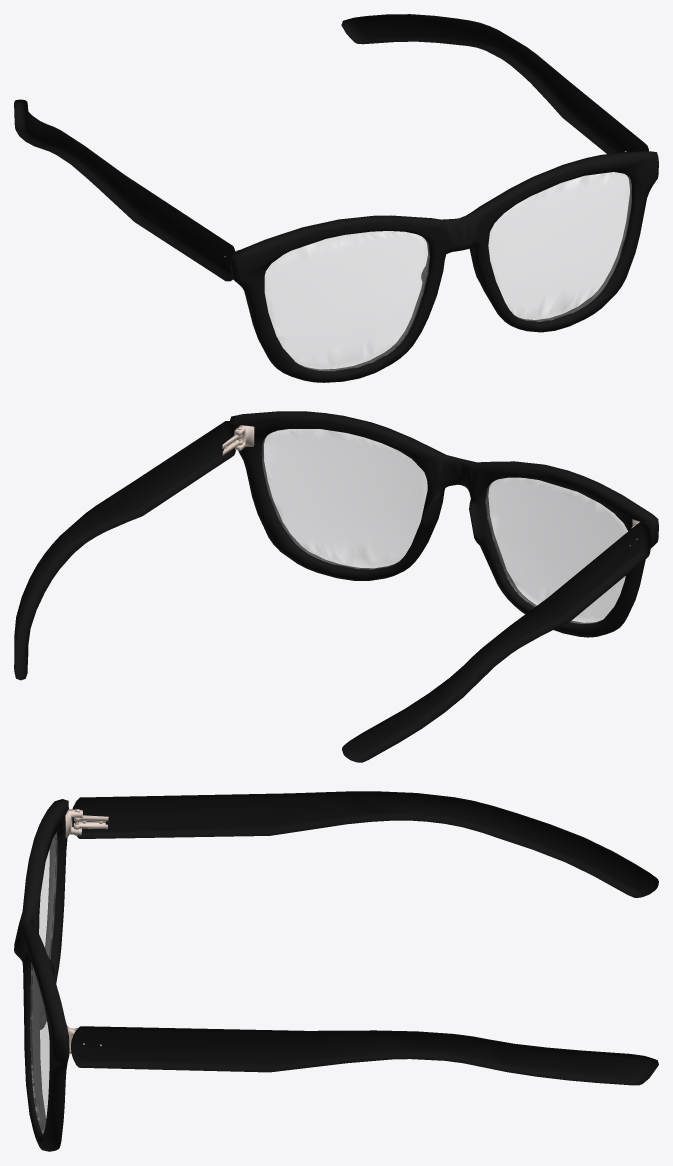
File: cat.glb
The picture shows the model from 3 angles, top to bottom: view 1: azimuth 30°, elevation 25°; view 2: azimuth 150°, elevation 25°; view 3: azimuth 270°, elevation 25°; orthographic projection. The views are drawn at different scales.
Parts seen in each view (by area): view 1: Object_14, Object_4, Object_6; view 2: Object_14, Object_6, Object_4; view 3: Object_6, Object_4, Object_14.
Boxes of the visible parts, x1,y1,x2,y2 form: Object_14: (265,172,631,370); Object_4: (230,151,658,382); Object_6: (14,14,648,281); Object_14: (262,429,627,623); Object_6: (14,421,651,762); Object_4: (230,411,658,637); Object_6: (71,791,658,1085); Object_4: (14,799,69,1151); Object_14: (30,833,57,1133).
Bounding box in the file's own units: 0.1462 × 0.0501 × 0.1622.
